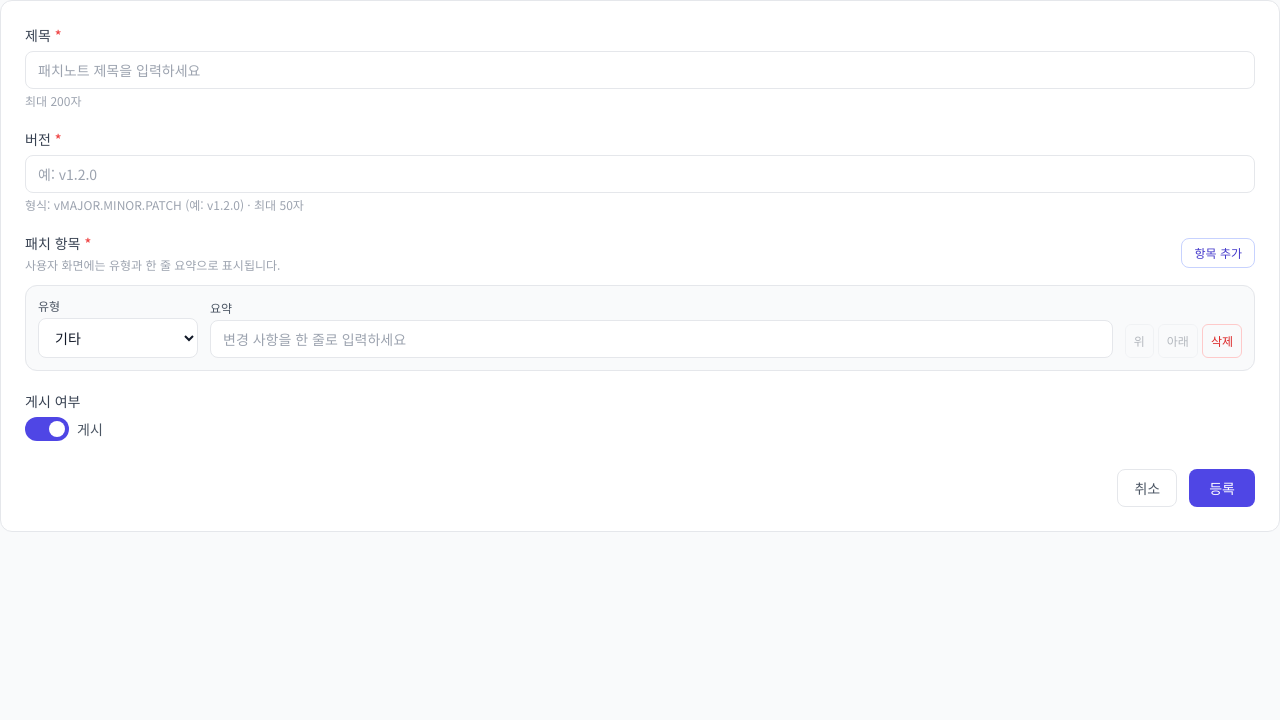
Test: PatchNoteForm › HTTP 오류 응답의 백엔드 메시지를 사용자에게 표시한다
Step 1. Type "배포 안내" into the field labelled "제목" → x=640, y=70, box [25,51,1255,89]
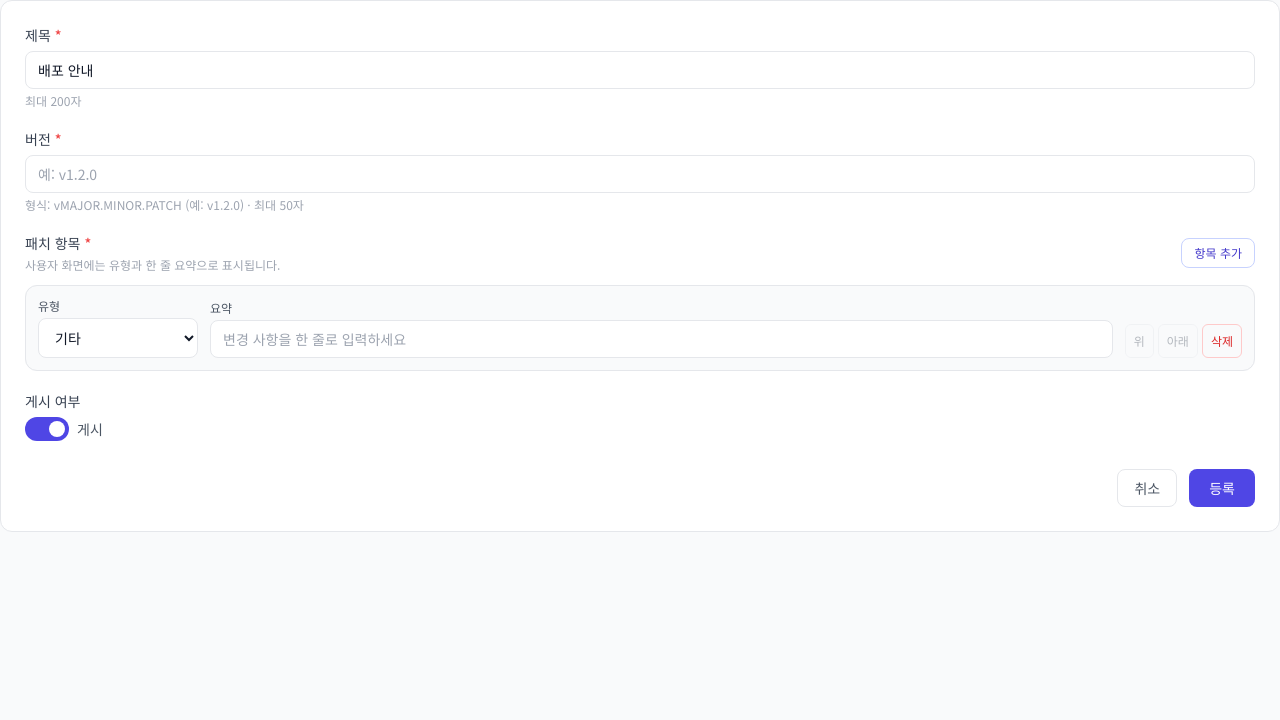
Step 2. Type "v1.0.0" into the field labelled "버전" → x=640, y=174, box [25,155,1255,193]
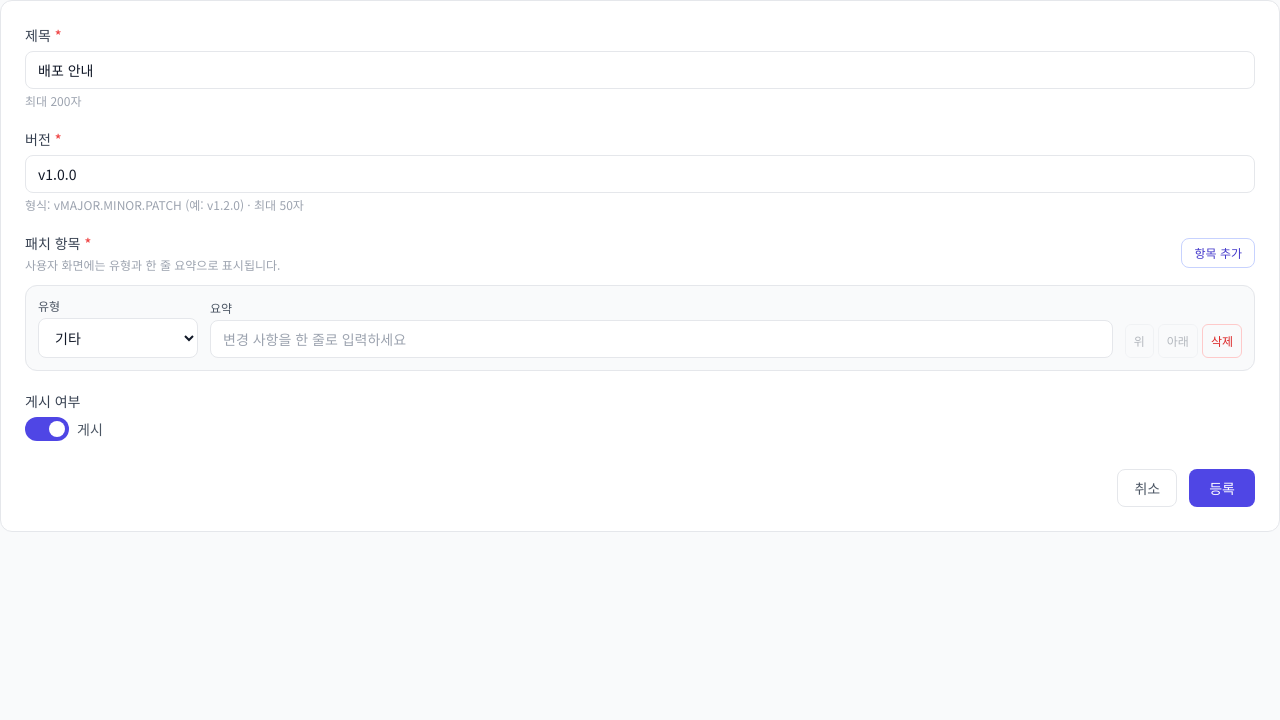
Step 3. Type "변경 사항" into the field named "항목 요약 1" → x=661, y=339, box [210,320,1113,358]
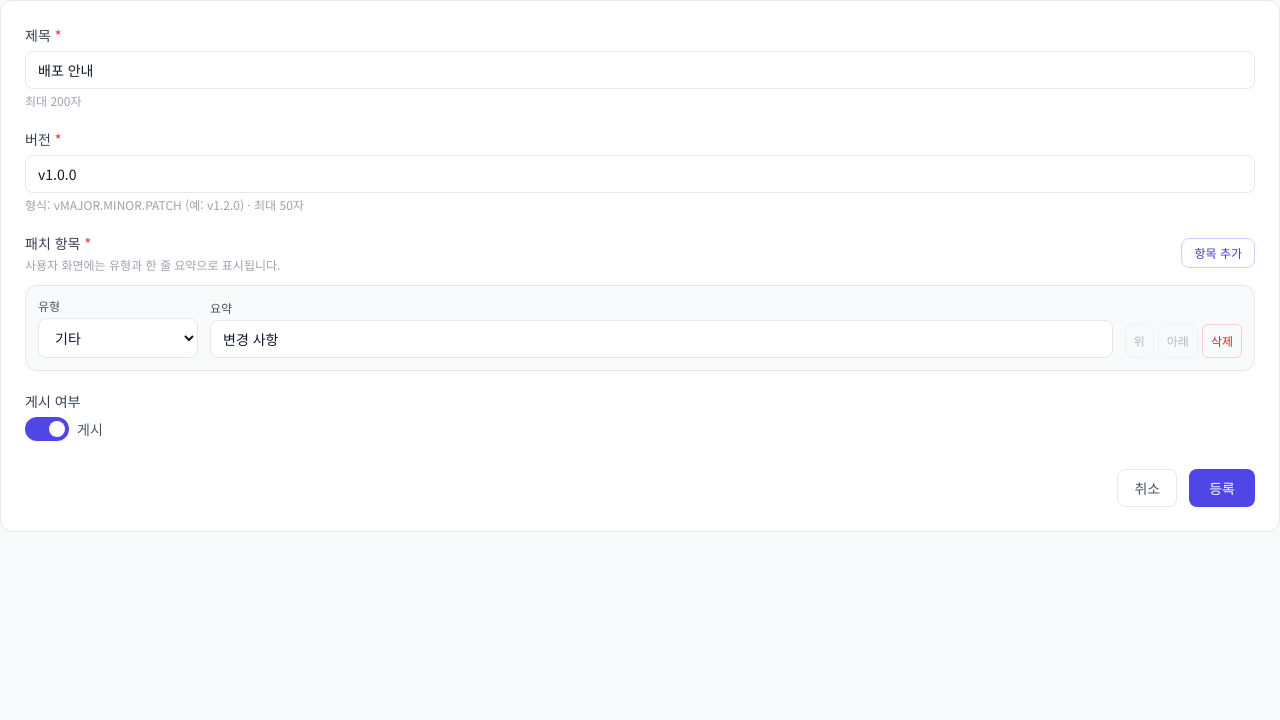
Step 4. Click the button "등록" → x=1222, y=488, box [1189,469,1255,507]
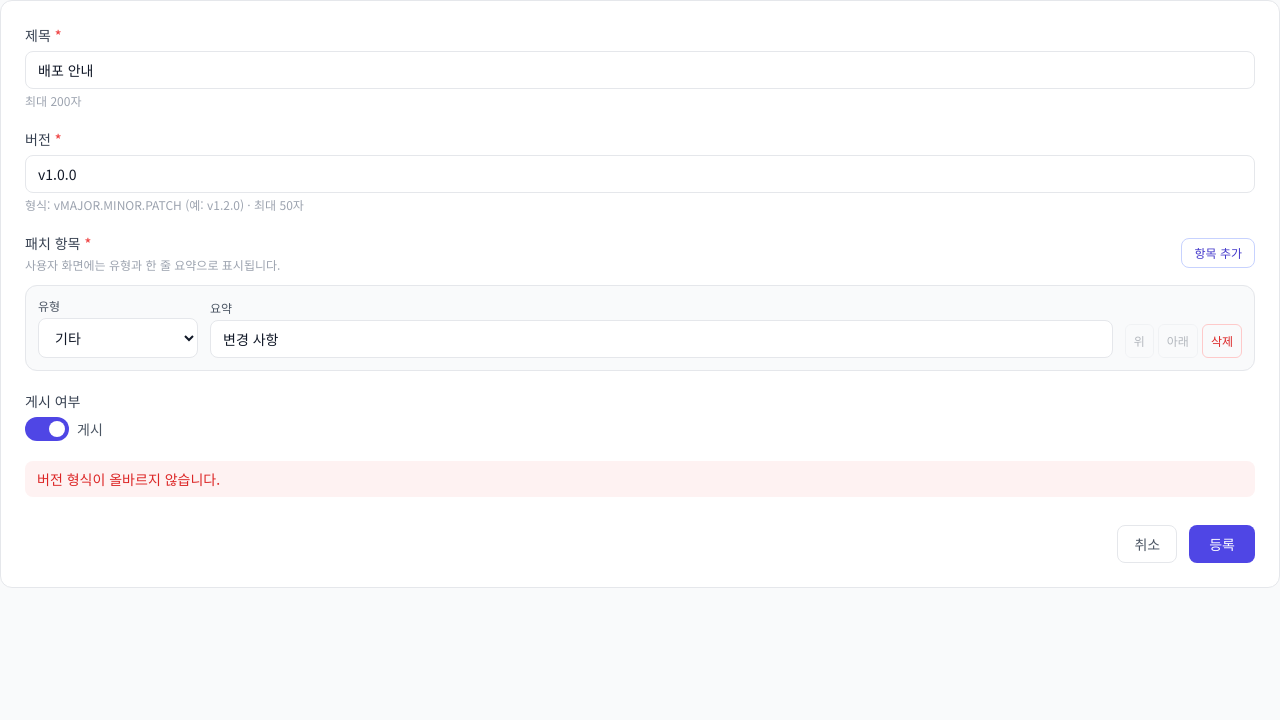
Expected: the message reads "버전 형식이 올바르지 않습니다.", [37,469,220,489]
